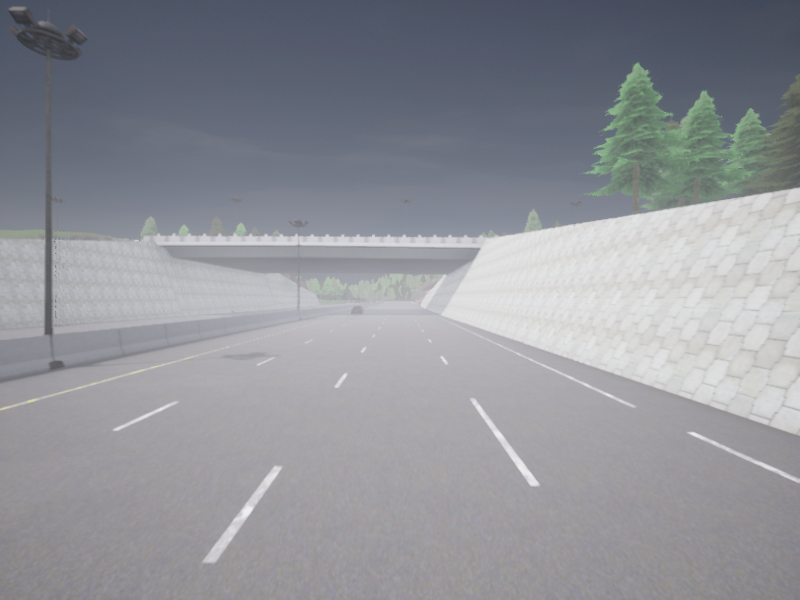vehicle: (351, 306, 364, 314)
